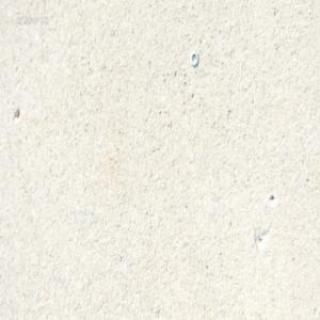Washertrack_idkeyframe: (190, 49, 198, 65)
